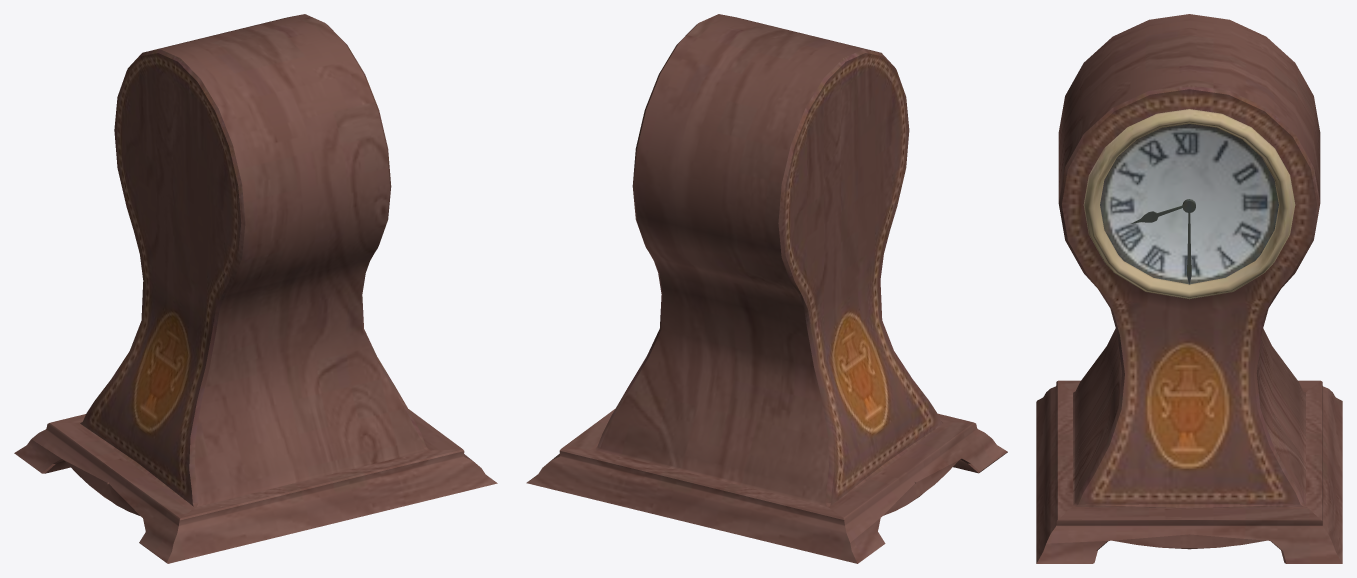
File: clock-table-small.glb
The picture shows the model from 3 angles, left to right: view 1: azimuth 30°, elevation 25°; view 2: azimuth 150°, elevation 25°; view 3: azimuth 270°, elevation 25°; orthographic projection.
Visible parts, largest first — view 1: clock-table-small; view 2: clock-table-small; view 3: clock-table-small.
Part boxes in pixels (x1=…): clock-table-small: x1=14, y1=14, x2=497, y2=563; clock-table-small: x1=526, y1=14, x2=1007, y2=563; clock-table-small: x1=1036, y1=14, x2=1342, y2=563.
Bounding box in the file's own units: 0.2432 × 0.3 × 0.1929.
1 material, 1 textured.
